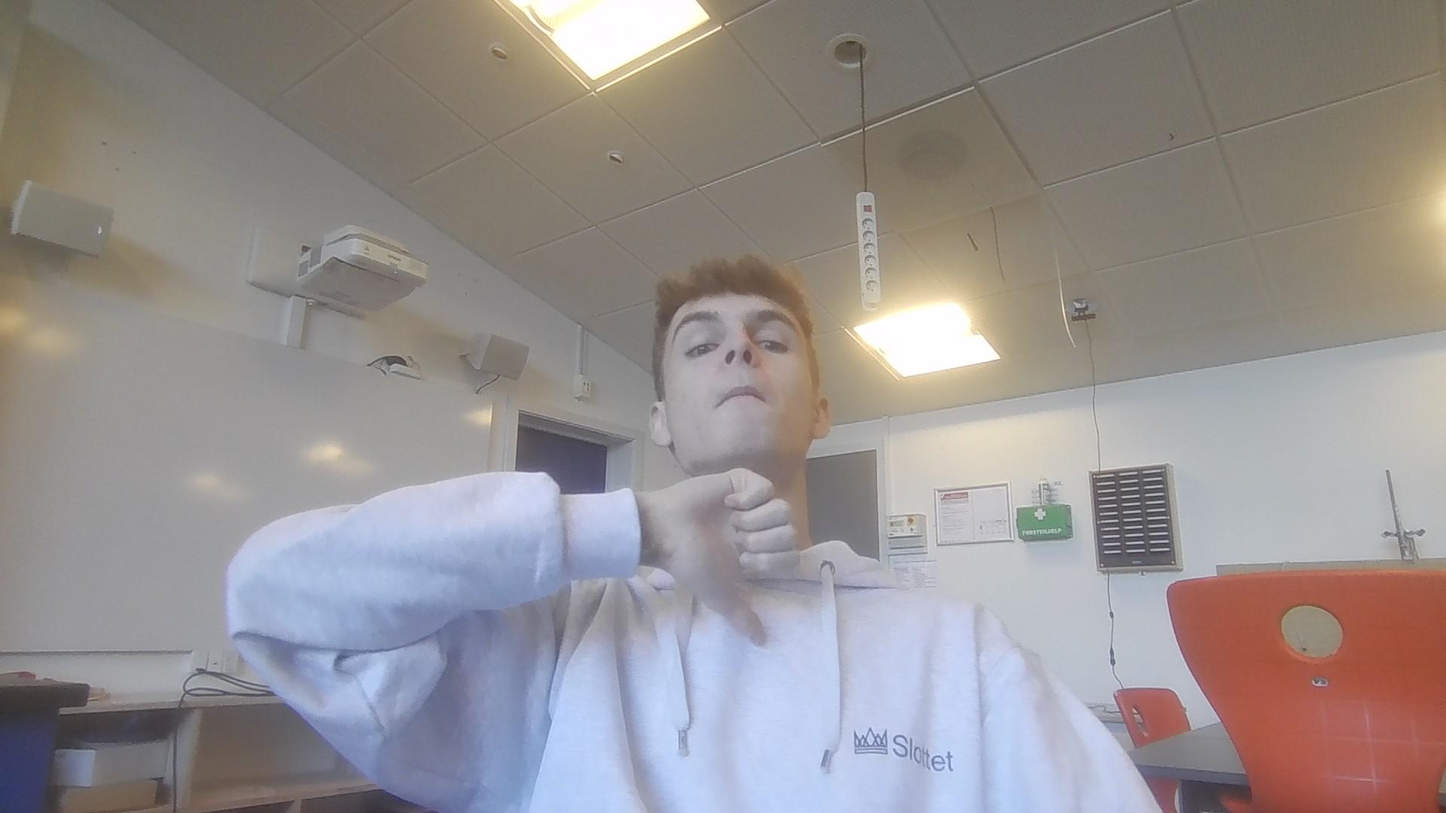thumbs down: (635, 462, 813, 666)
